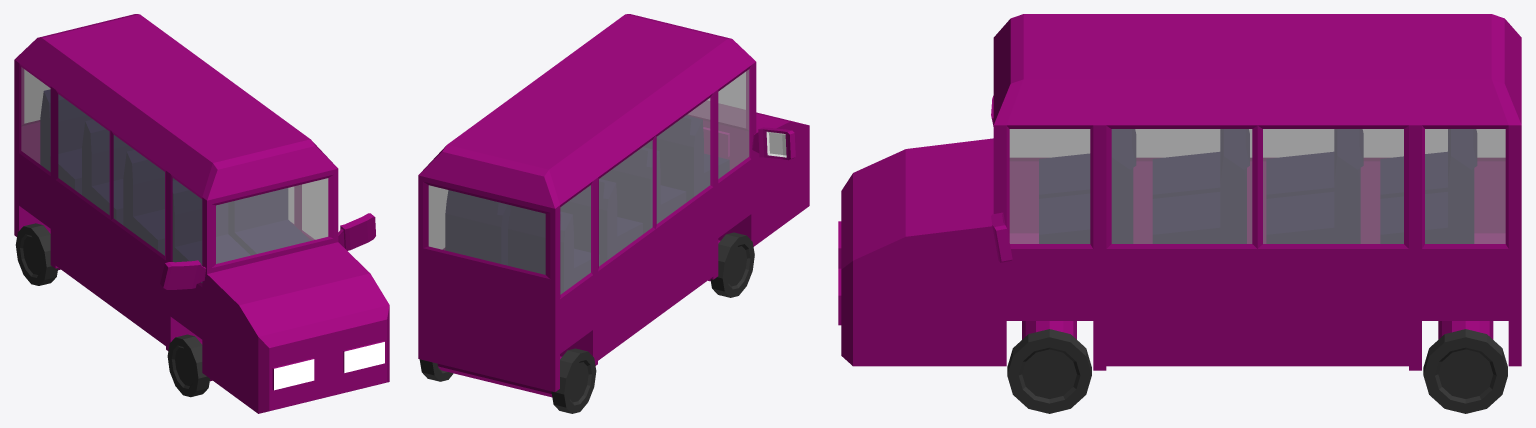
File: cars8.glb
3 renders of one model, left to right at view 1: azimuth 30°, elevation 25°; view 2: azimuth 150°, elevation 25°; view 3: azimuth 270°, elevation 25°, orthographic. The views are drawn at different scales.
Visible parts, largest first — view 1: Car8, Car8Tire1, Car8Tire2; view 2: Car8, Car8Tire2, Car8Tire1; view 3: Car8, Car8Tire2, Car8Tire1.
Part boxes in pixels (x1,y1,x2,y2): Car8: [14, 14, 389, 413]; Car8Tire1: [167, 334, 212, 397]; Car8Tire2: [15, 223, 60, 285]; Car8: [418, 14, 809, 391]; Car8Tire2: [419, 348, 596, 413]; Car8Tire1: [708, 232, 754, 297]; Car8: [838, 14, 1521, 370]; Car8Tire2: [1423, 321, 1507, 413]; Car8Tire1: [1007, 321, 1091, 413].
Bounding box in the file's own units: 1.38 × 1.45 × 2.8.
